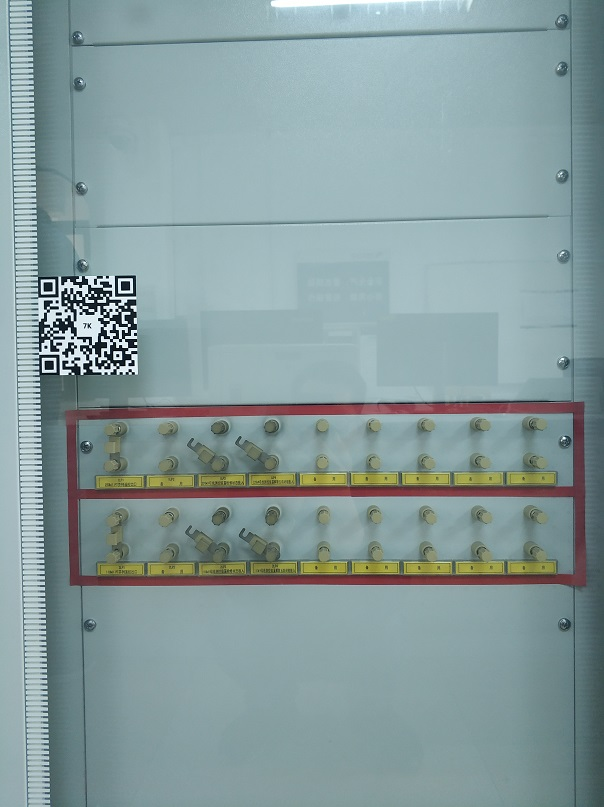ybempty: (465, 501, 495, 559), (155, 419, 186, 475)
ybopen: (235, 506, 291, 561), (232, 419, 290, 472)
